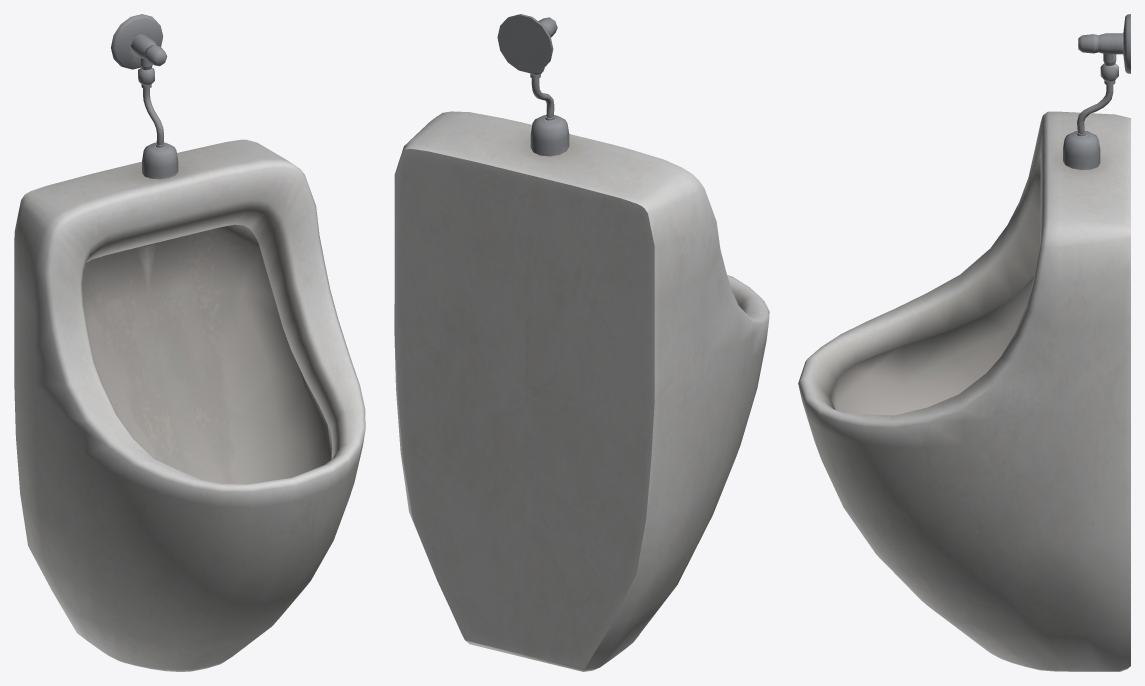
Rendered from SM_Urinal_01.glb.
The picture shows the model from 3 angles, left to right: view 1: azimuth 30°, elevation 25°; view 2: azimuth 150°, elevation 25°; view 3: azimuth 270°, elevation 25°; orthographic projection. The views are drawn at different scales.
Visible parts, largest first — view 1: SM_Urinal_01; view 2: SM_Urinal_01; view 3: SM_Urinal_01.
Boxes of the visible parts, <box> form: SM_Urinal_01: <box>14,14,365,671</box>; SM_Urinal_01: <box>394,14,769,671</box>; SM_Urinal_01: <box>798,14,1130,671</box>.
Bounding box in the file's own units: 0.3551 × 0.7467 × 0.3601.
Materials: 1 (1 with a texture image).
